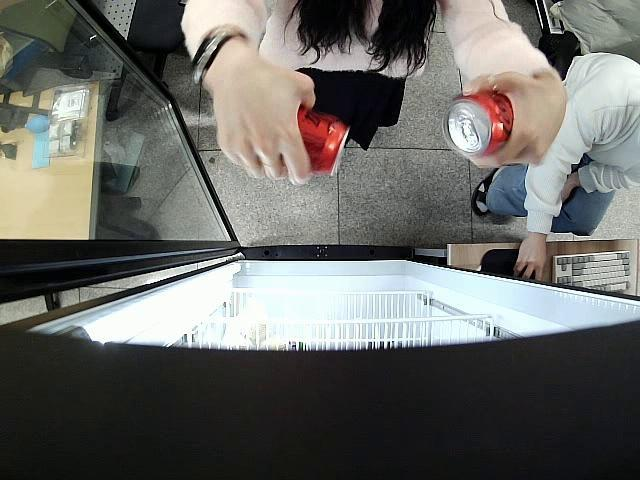11_cocaColaZero: (440, 88, 517, 156), (292, 108, 353, 178)
